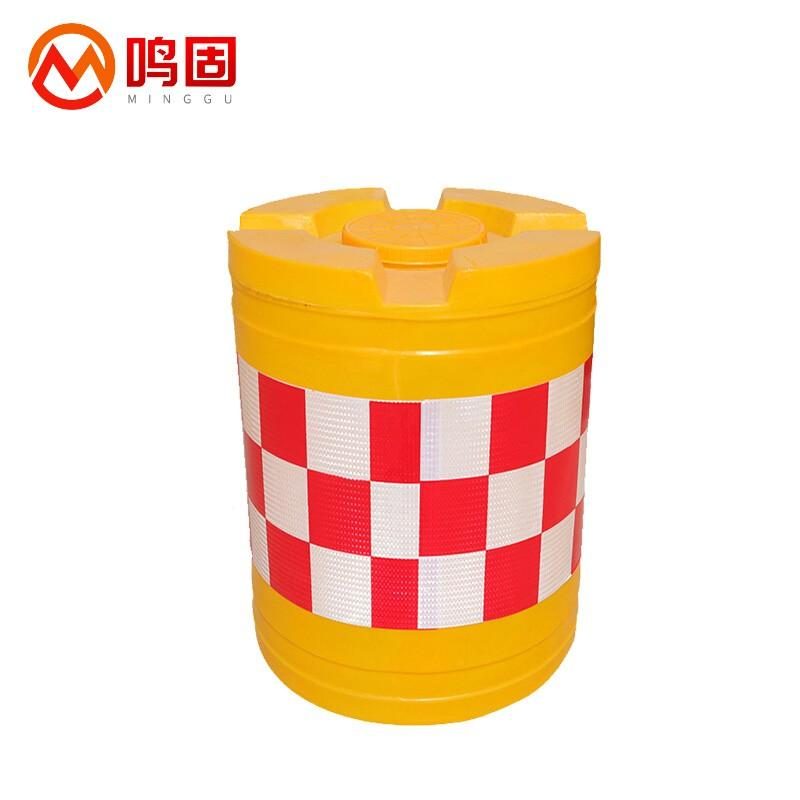sign: (207, 182, 612, 735)
